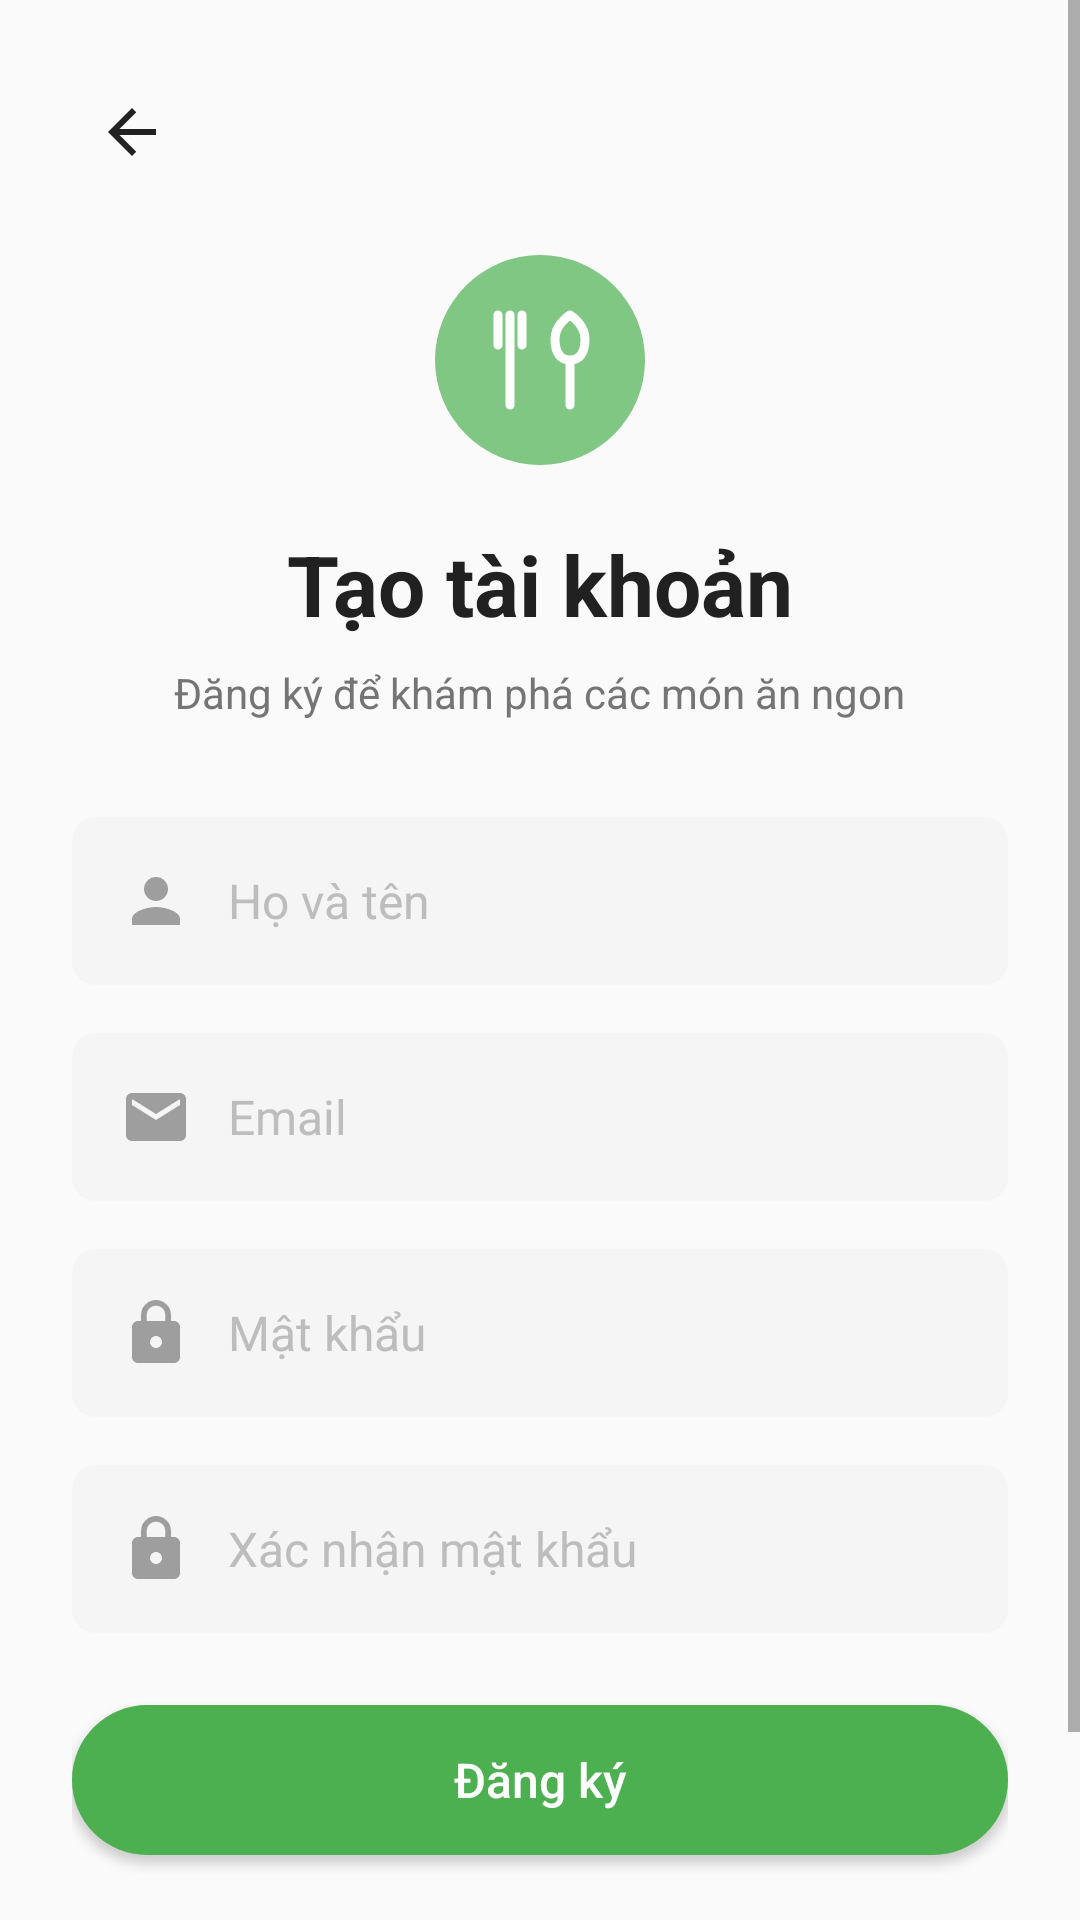

Icons on this 1080w x 1920h Android screen, each with its box as Rect(x1, y1, x2, y2):
Back: Rect(108, 108, 156, 156)
Lock icon: Rect(132, 1300, 180, 1363), Rect(132, 1516, 180, 1579)
User icon: Rect(132, 877, 180, 925)
